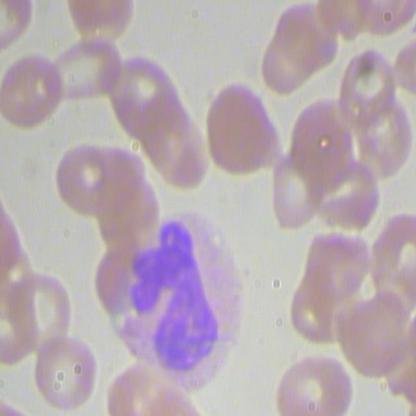RBC: (202, 82, 279, 182), (47, 29, 125, 115), (5, 268, 74, 349), (320, 153, 388, 234), (275, 349, 355, 415), (0, 51, 62, 136), (34, 329, 99, 410), (54, 138, 118, 216), (339, 45, 398, 126), (267, 149, 326, 230), (276, 1, 340, 75)
WBC: (99, 206, 252, 394)
